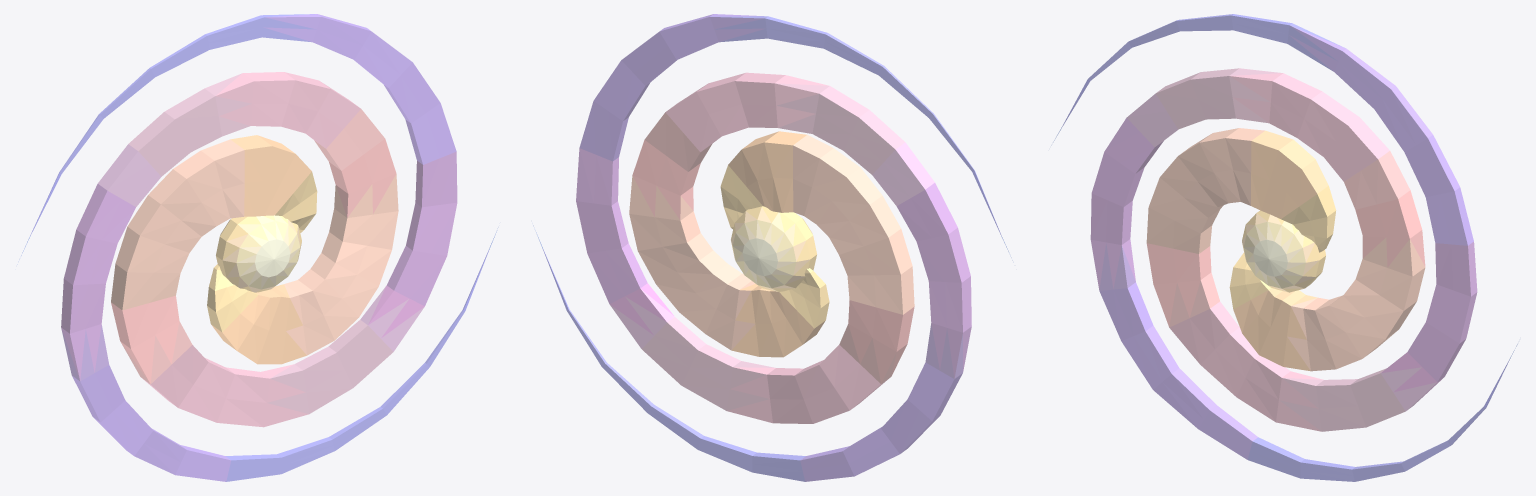
Rendered from galaxy-015.glb.
3 renders of one model, left to right at view 1: azimuth 30°, elevation 25°; view 2: azimuth 150°, elevation 25°; view 3: azimuth 330°, elevation 25°, orthographic. The views are drawn at different scales.
Parts seen in each view (by area): view 1: galaxy-015; view 2: galaxy-015; view 3: galaxy-015.
Part boxes in pixels (x1,y1,x2,y2): galaxy-015: (17,14,498,481); galaxy-015: (533,14,1013,481); galaxy-015: (1051,14,1517,481).
Size of the model in its own units: 171 by 154 by 18.48.
